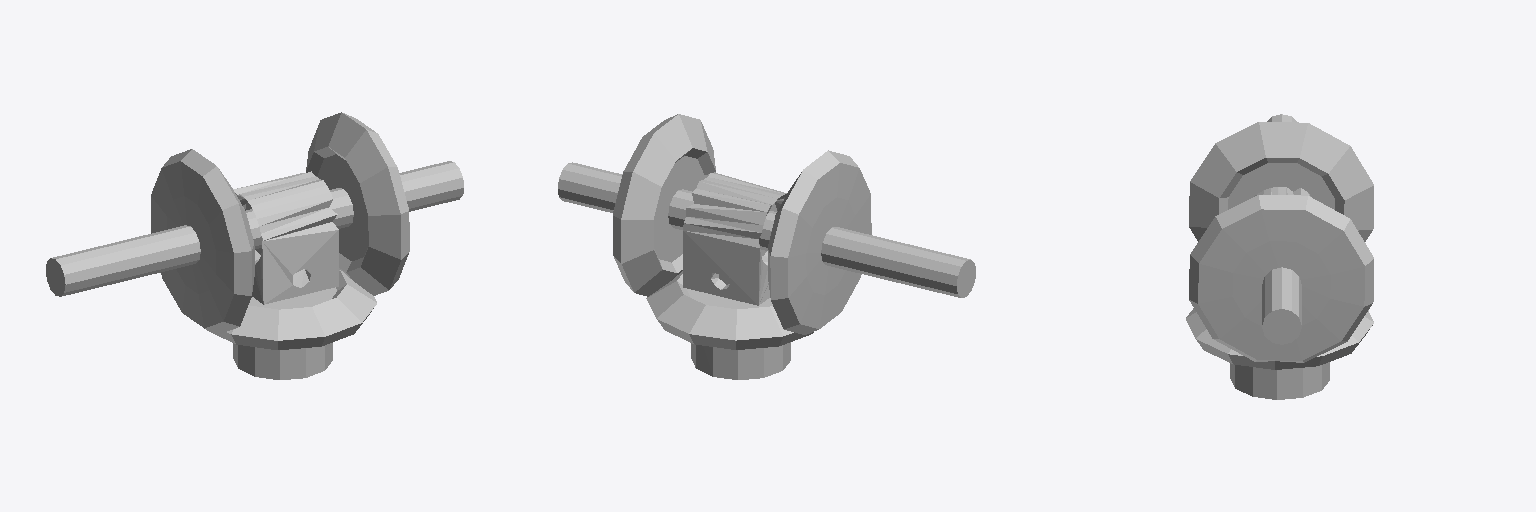
File: back_right_hip.obj
3 renders of one model, left to right at view 1: azimuth 30°, elevation 25°; view 2: azimuth 150°, elevation 25°; view 3: azimuth 270°, elevation 25°, orthographic.
Bounding box in the file's own units: 6.35 × 3.35 × 2.61.